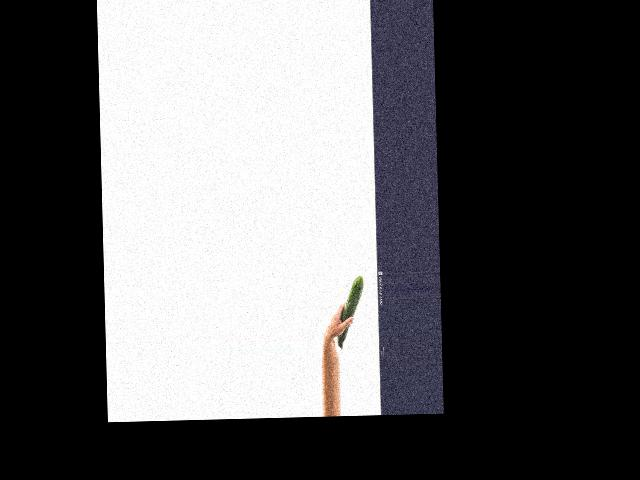cucumber: (335, 276, 365, 350)
